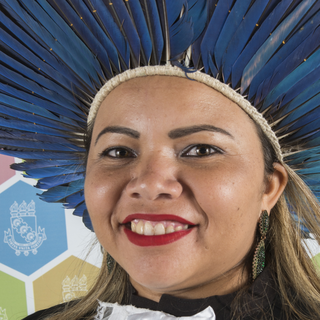eye: (178, 139, 228, 163), (97, 141, 140, 165)
